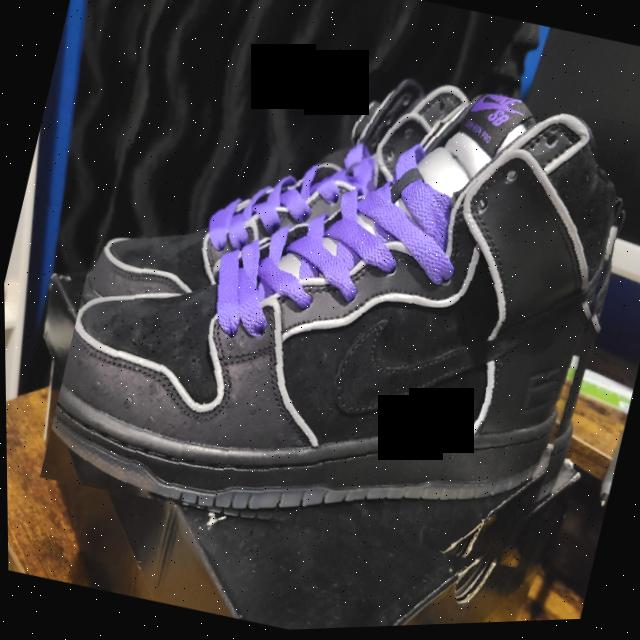shoe: (32, 7, 640, 603)
